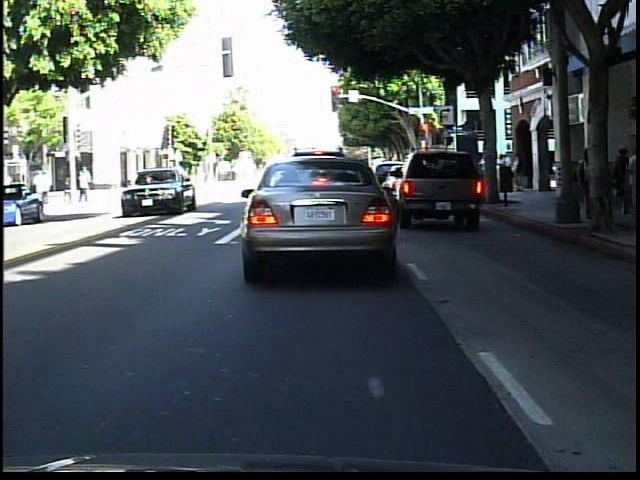person: (574, 144, 598, 226), (615, 141, 639, 220), (609, 146, 632, 214), (78, 163, 97, 206), (77, 163, 94, 197), (62, 173, 74, 206)
